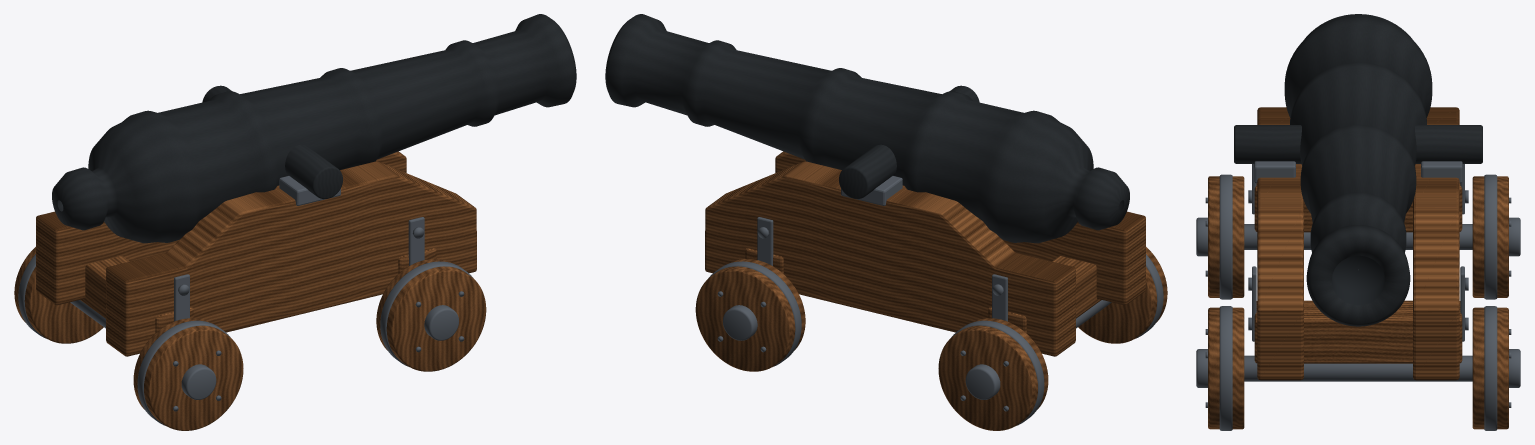
File: light-cannon-lod0.glb
3 renders of one model, left to right at view 1: azimuth 30°, elevation 25°; view 2: azimuth 150°, elevation 25°; view 3: azimuth 270°, elevation 25°, orthographic. The views are drawn at different scales.
Visible parts, largest first — view 1: Barrel, Cheek_port, Wheel_-0.71_-1, Wheel_0.49_-1, Cheek_starboard, Wheel_-0.71_1, Trunnions, Crossbeam_-0.71, Rim_0.49_-1, Rim_-0.71_-1, Hub_-0.71_-1, Hub_0.49_-1 (+4 smaller); view 2: Barrel, Cheek_starboard, Wheel_-0.71_1, Wheel_0.49_1, Cheek_port, Wheel_-0.71_-1, Trunnions, Crossbeam_-0.71, Rim_0.49_1, Rim_-0.71_1, Hub_-0.71_1, Hub_0.49_1 (+4 smaller); view 3: Barrel, Cheek_port, Cheek_starboard, Crossbeam_0.49, Trunnions, Wheel_0.49_1, Wheel_0.49_-1, Wheel_-0.71_1, Wheel_-0.71_-1, Axle_0.49, Rim_-0.71_1, Rim_-0.71_-1 (+12 smaller).
Boxes of the visible parts, x1,y1,x2,y2 form: Barrel: [52, 14, 576, 243]; Cheek_port: [106, 161, 476, 356]; Wheel_-0.71_-1: [133, 318, 243, 430]; Wheel_0.49_-1: [376, 259, 486, 371]; Cheek_starboard: [36, 151, 406, 305]; Wheel_-0.71_1: [14, 247, 103, 343]; Trunnions: [202, 85, 342, 198]; Crossbeam_-0.71: [80, 256, 193, 332]; Rim_0.49_-1: [380, 261, 473, 366]; Rim_-0.71_-1: [137, 320, 230, 425]; Hub_-0.71_-1: [181, 364, 216, 399]; Hub_0.49_-1: [424, 305, 458, 340]; Barrel: [605, 14, 1129, 243]; Cheek_starboard: [705, 161, 1075, 356]; Wheel_-0.71_1: [938, 318, 1048, 430]; Wheel_0.49_1: [695, 259, 805, 371]; Cheek_port: [775, 151, 1145, 305]; Wheel_-0.71_-1: [1078, 247, 1167, 343]; Trunnions: [839, 85, 979, 198]; Crossbeam_-0.71: [988, 256, 1101, 332]; Rim_0.49_1: [708, 261, 801, 366]; Rim_-0.71_1: [951, 320, 1044, 425]; Hub_-0.71_1: [965, 364, 1000, 399]; Hub_0.49_1: [723, 305, 757, 340]; Barrel: [1284, 14, 1432, 326]; Cheek_port: [1257, 107, 1303, 380]; Cheek_starboard: [1413, 107, 1459, 380]; Crossbeam_0.49: [1254, 300, 1462, 363]; Trunnions: [1234, 125, 1482, 163]; Wheel_0.49_1: [1472, 307, 1508, 429]; Wheel_0.49_-1: [1208, 307, 1244, 429]; Wheel_-0.71_1: [1472, 176, 1508, 297]; Wheel_-0.71_-1: [1208, 176, 1244, 297]; Axle_0.49: [1244, 355, 1472, 381]; Rim_-0.71_1: [1484, 174, 1497, 299]; Rim_-0.71_-1: [1219, 174, 1232, 299].
Size of the model in its own units: 2.46 by 1.24 by 1.25.
4 materials, 2 textured.
